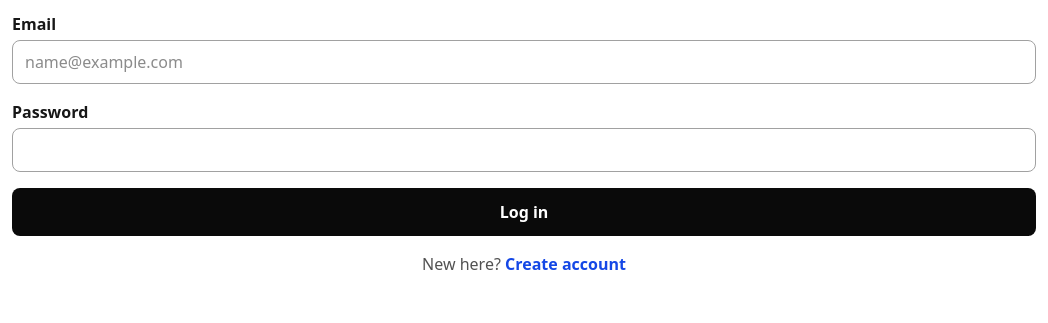
it: a wrong password says so and stays
The width and height of the screenshot is (1048, 323).
Type "kiri@example.com" into the field labelled "Email" at x=524, y=62, box [12,40,1036,84]
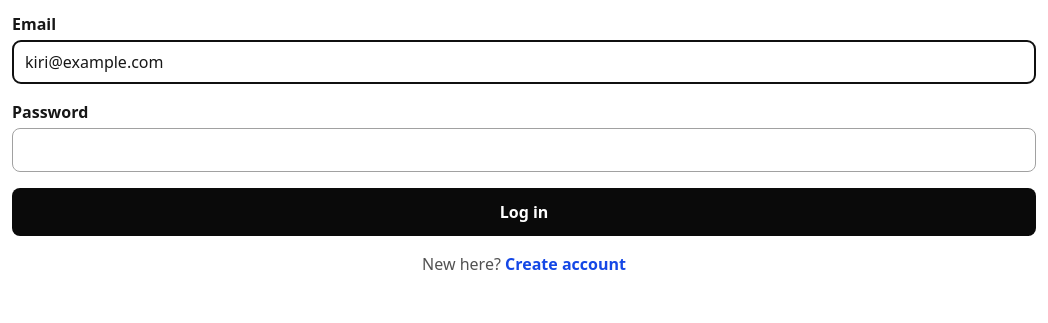
Type "wrong" into the password field labelled "Password" at x=524, y=150, box [12,128,1036,172]
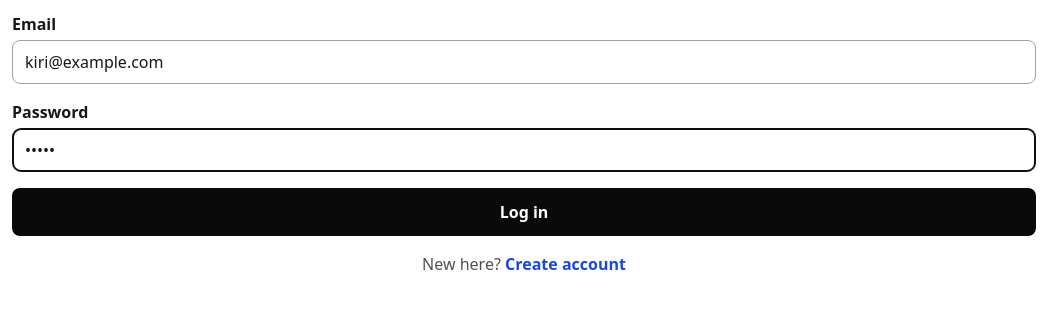
Click the button "Log in" at x=524, y=212, box [12,188,1036,236]
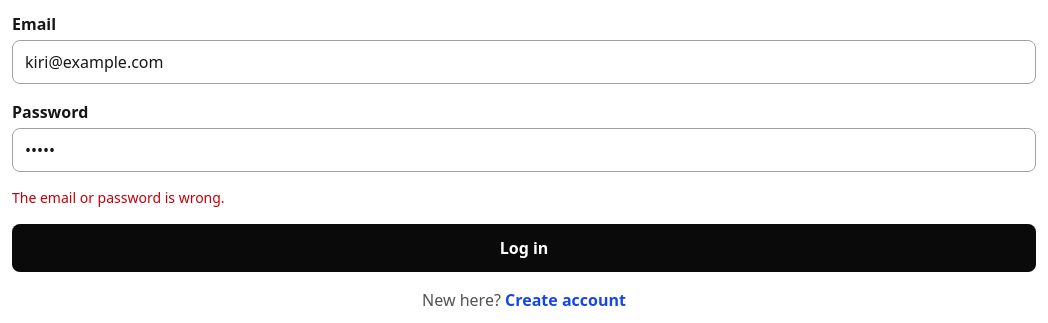
Result: the message reads "The email or password is wrong." at [12,188,225,207]
